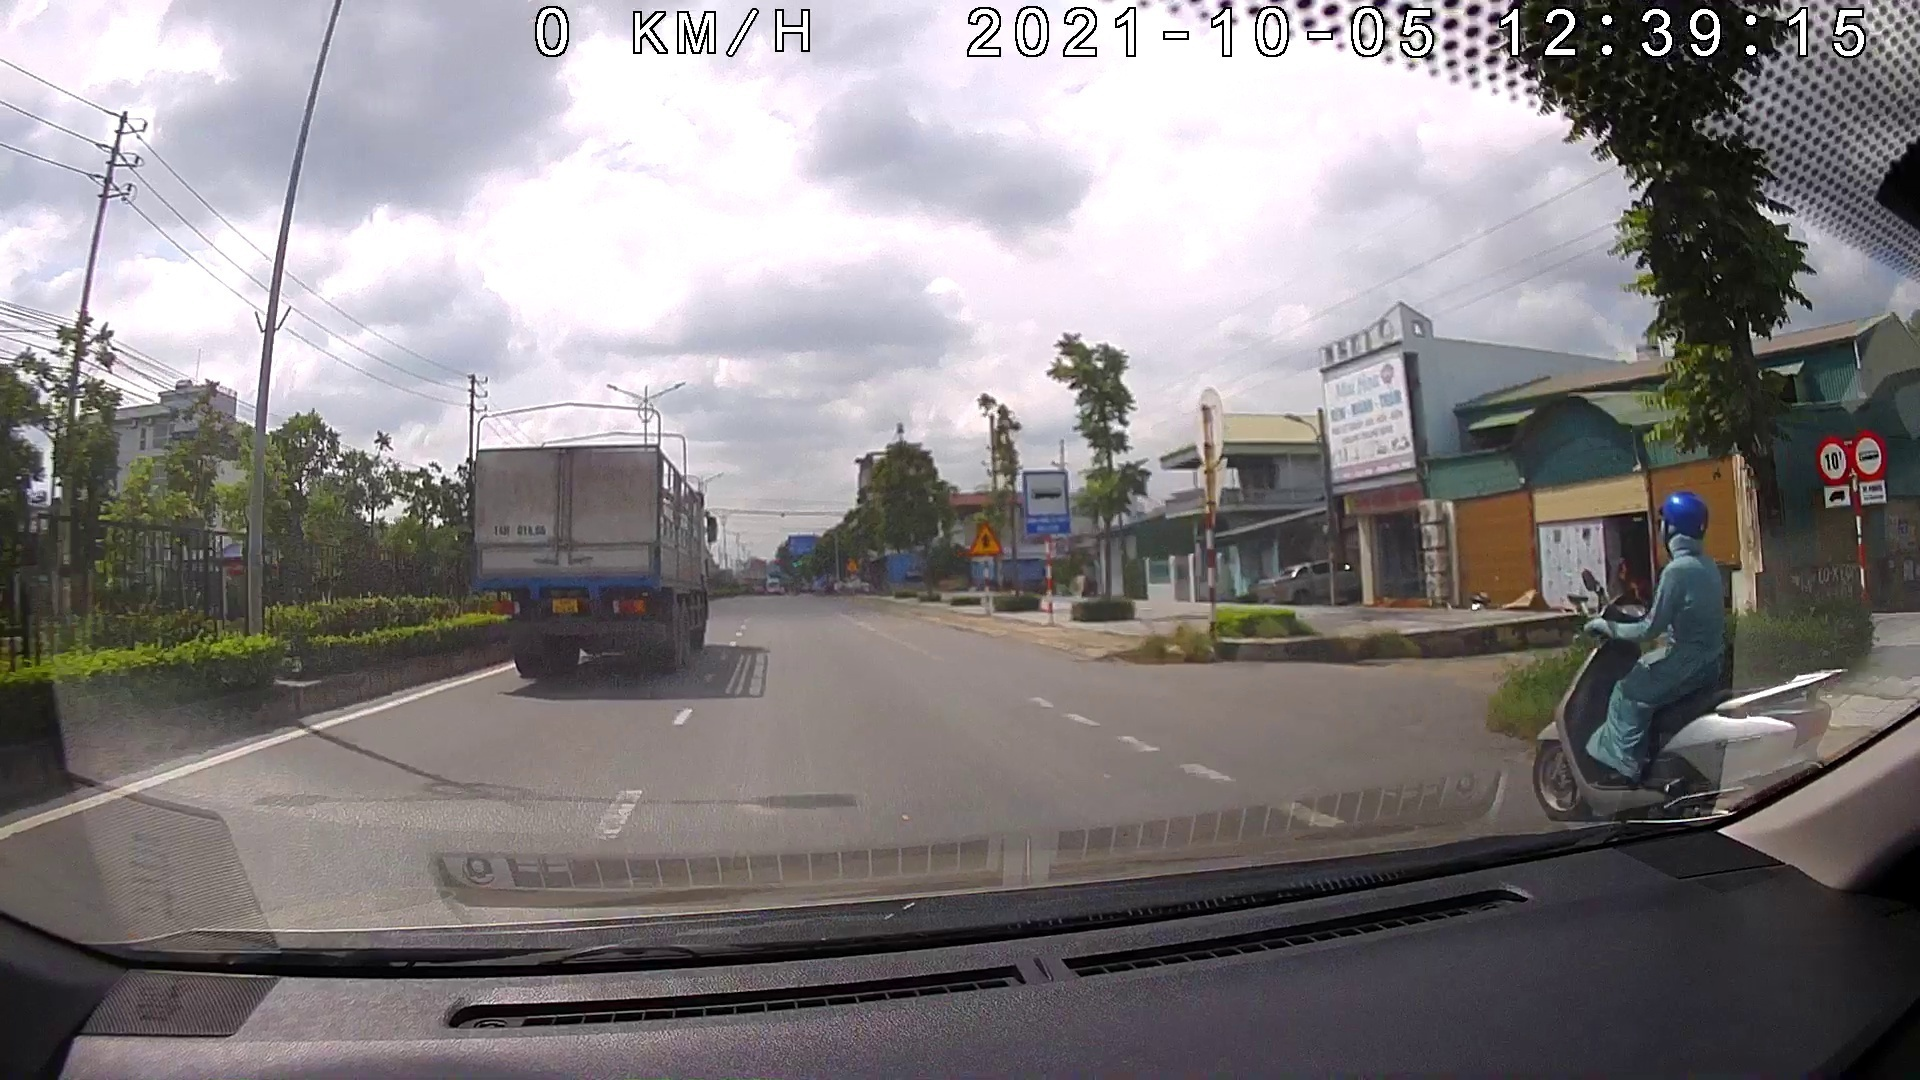Bien khac: (1021, 469, 1071, 534), (1818, 436, 1851, 485), (1853, 430, 1883, 480)
Giao nhau voi duong khong uu tien: (969, 520, 1004, 555)
